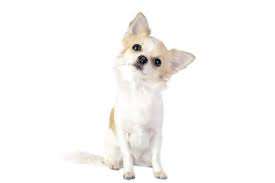Chihuahua: (85, 11, 190, 183)
